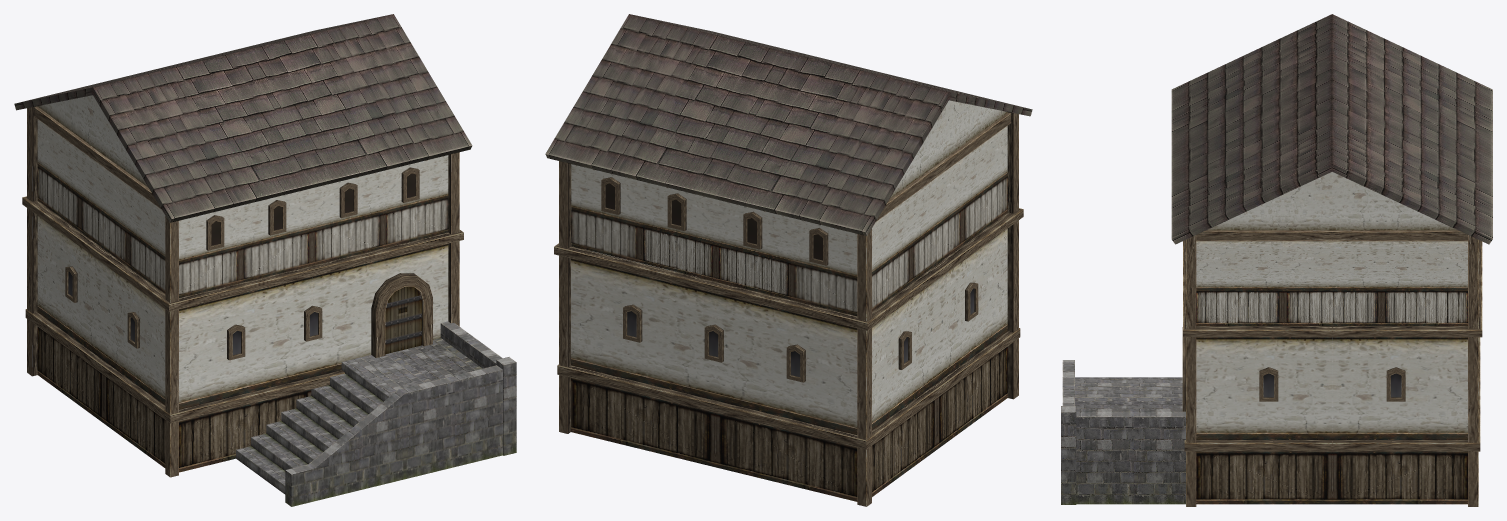
File: CastleHouse07.FBX
The picture shows the model from 3 angles, left to right: view 1: azimuth 30°, elevation 25°; view 2: azimuth 150°, elevation 25°; view 3: azimuth 270°, elevation 25°; orthographic projection. The views are drawn at different scales.
Parts seen in each view (by area): view 1: CastleHouse07, CastleHouseStairs, HouseDoor; view 2: CastleHouse07; view 3: CastleHouse07, CastleHouseStairs.
Boxes of the visible parts, bbox=[...] form: CastleHouse07: bbox=[14, 14, 472, 477]; CastleHouseStairs: bbox=[236, 321, 516, 506]; HouseDoor: bbox=[371, 273, 432, 357]; CastleHouse07: bbox=[545, 14, 1032, 506]; CastleHouse07: bbox=[1171, 14, 1492, 506]; CastleHouseStairs: bbox=[1061, 360, 1185, 504].
Size of the model in its own units: 1351 by 1456 by 1646.
